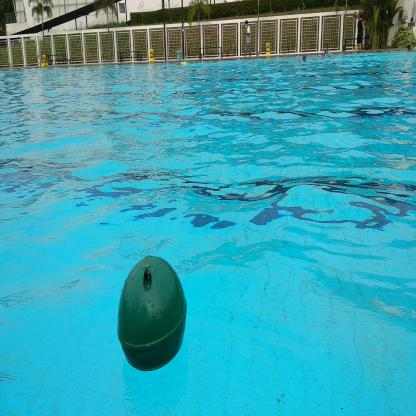green_buoy: (114, 247, 189, 378)
